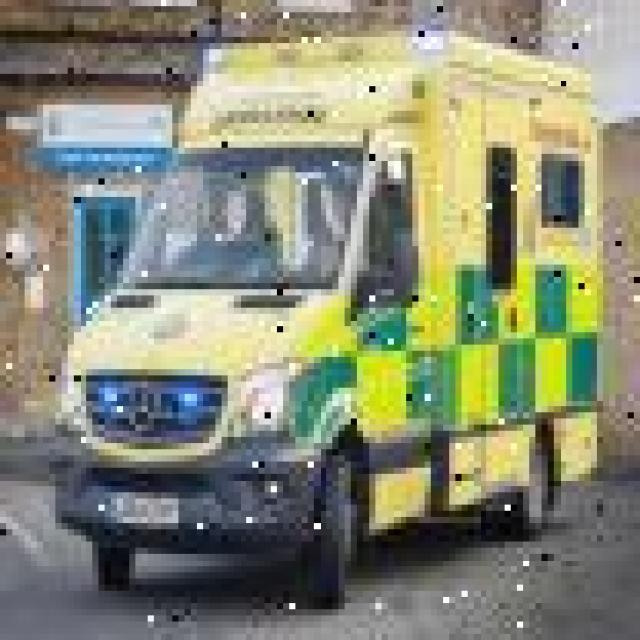emergency-vehicle: (49, 30, 609, 616)
